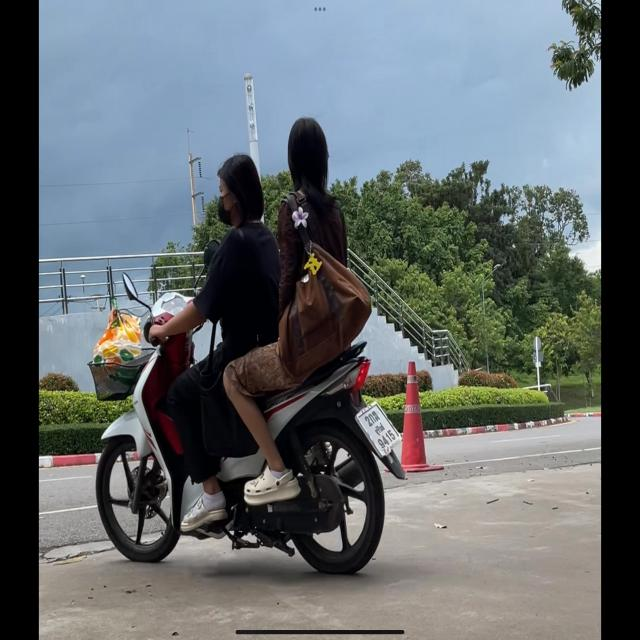seatbelt: (215, 151, 265, 228), (286, 114, 330, 190)
